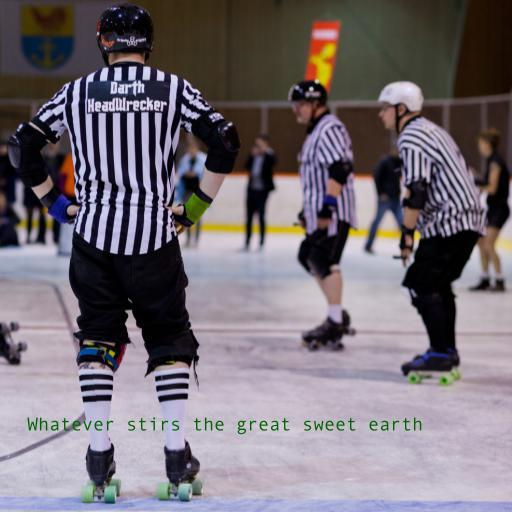Andale Mono: (27, 417, 423, 435)
